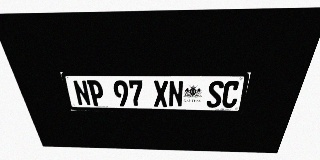7: (128, 80, 144, 107)
9: (113, 80, 130, 106)
C: (221, 81, 241, 108)
N: (72, 80, 92, 106), (168, 80, 184, 107)
P: (87, 80, 106, 106)
S: (206, 81, 225, 108)
X: (153, 80, 168, 107)
